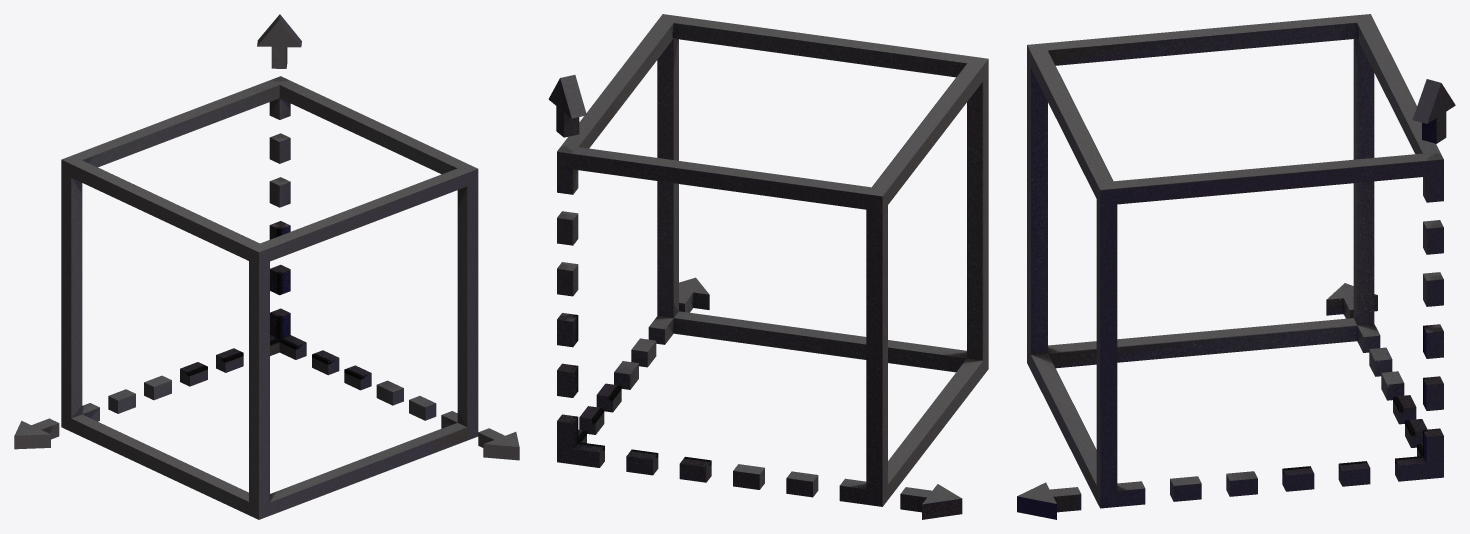
Rendered from threed_scale.glb.
3 renders of one model, left to right at view 1: azimuth 30°, elevation 25°; view 2: azimuth 150°, elevation 25°; view 3: azimuth 270°, elevation 25°, orthographic. The views are drawn at different scales.
Visible parts, largest first — view 1: threed_scale; view 2: threed_scale; view 3: threed_scale.
Boxes of the visible parts, left/top/right/bottom form: threed_scale: left=14, top=14, right=519, bottom=519; threed_scale: left=548, top=14, right=988, bottom=519; threed_scale: left=1017, top=14, right=1455, bottom=519.
Size of the model in its own units: 2.38 by 1.98 by 2.
1 material, 1 textured.
